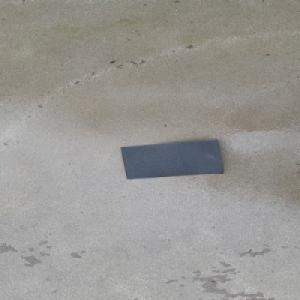PaintChip: (120, 139, 224, 179)
